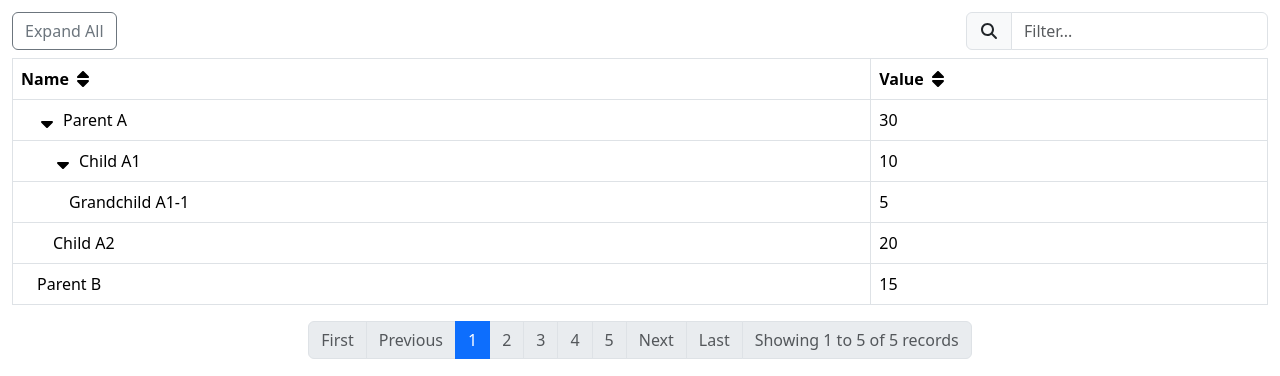
Scenario: BootstrapTreeTable (final production version) › collapse all works
The image size is (1280, 376).
Click the button "Expand All": (64, 31) [12,12,116,50]
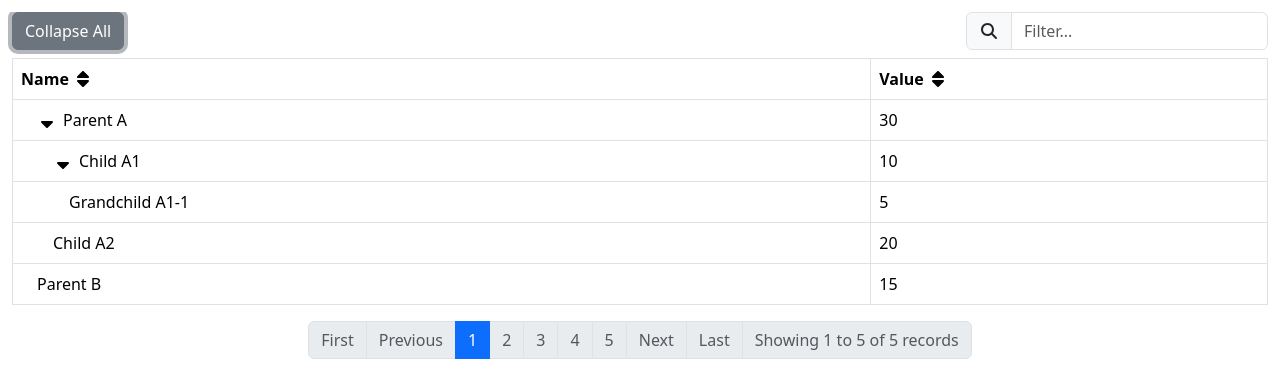
Click the button "Collapse All": (68, 31) [12,12,124,50]
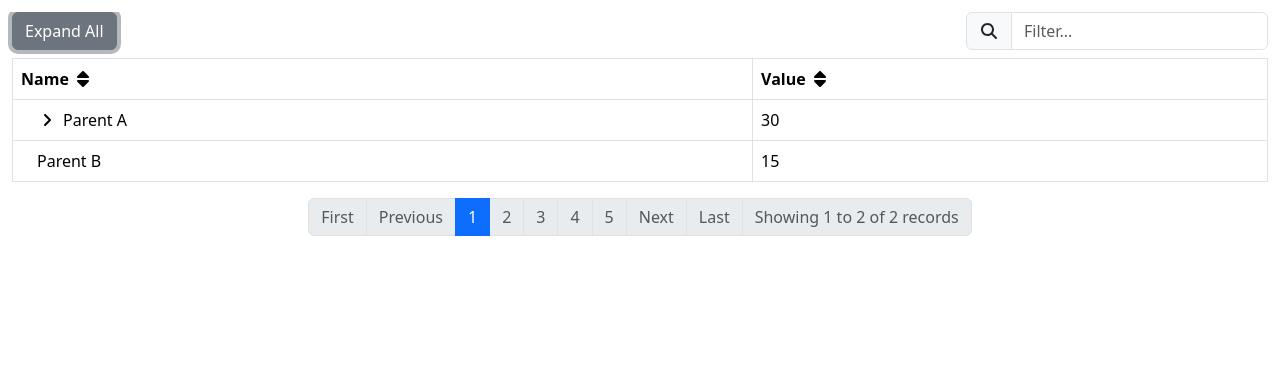
Result: the text "Child A1" is gone
